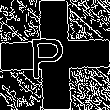P_N: (36, 29, 74, 81)
